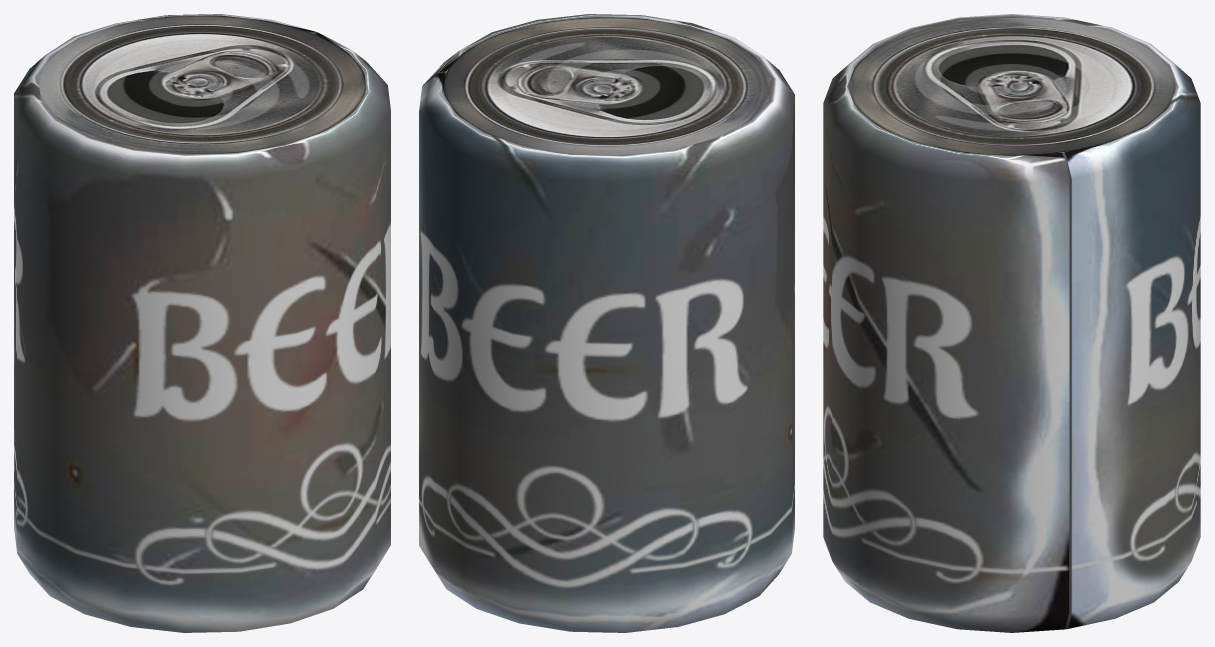
File: MS_BeerCan.fbx
3 views of the same model, side by side, from view 1: azimuth 30°, elevation 25°; view 2: azimuth 150°, elevation 25°; view 3: azimuth 270°, elevation 25° (orthographic).
Parts seen in each view (by area): view 1: pCylinder1; view 2: pCylinder1; view 3: pCylinder1.
Part boxes in pixels (box(x1,y1,x2,y2)): pCylinder1: box(14, 14, 390, 632); pCylinder1: box(419, 14, 794, 632); pCylinder1: box(823, 14, 1200, 632).
Size of the model in its own units: 0.6361 by 0.8781 by 0.6361.
